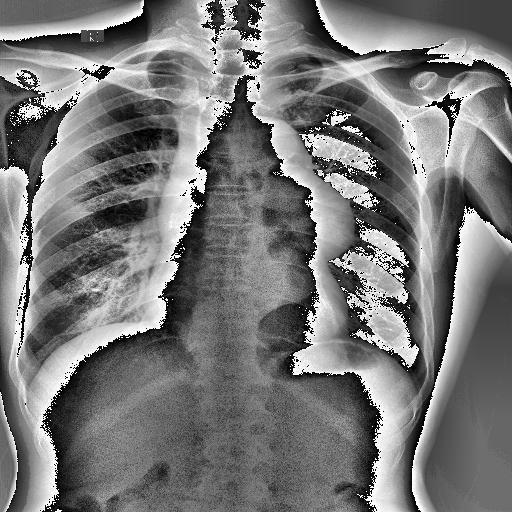0- Aortic enlargement: (237, 120, 313, 178), (244, 117, 298, 155)
8- Nodule-Mass: (266, 167, 356, 269), (260, 172, 356, 259), (268, 163, 354, 260)
